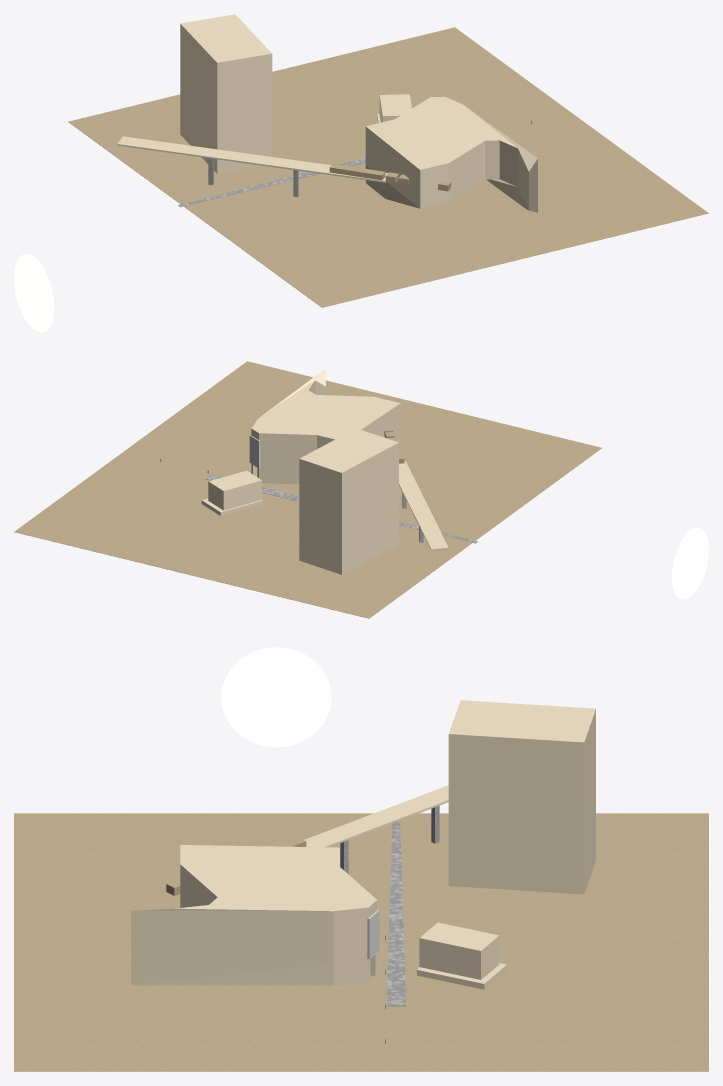
3 renders of one model, top to bottom at view 1: azimuth 30°, elevation 25°; view 2: azimuth 150°, elevation 25°; view 3: azimuth 270°, elevation 25°, orthographic. The views are drawn at different scales.
Parts seen in each view (by area): view 1: ground, Building.002, Cube, Railway.001, Circle, 立方體, Cube.001, the way; view 2: ground, Cube, Building.002, Circle, Cube.001, Railway.001, the way; view 3: ground, Building.002, Cube, Circle, Cube.001, the way, Railway.001.
Part boxes in pixels (bbox=[...]): ground: bbox=[68, 27, 708, 307]; Building.002: bbox=[365, 96, 537, 212]; Cube: bbox=[180, 14, 272, 173]; Railway.001: bbox=[117, 136, 387, 182]; Circle: bbox=[14, 253, 54, 332]; 立方體: bbox=[329, 164, 451, 191]; Cube.001: bbox=[377, 94, 411, 123]; the way: bbox=[178, 157, 365, 207]; ground: bbox=[14, 361, 601, 618]; Cube: bbox=[299, 428, 398, 574]; Building.002: bbox=[251, 368, 400, 484]; Circle: bbox=[672, 527, 708, 599]; Cube.001: bbox=[201, 470, 262, 515]; Railway.001: bbox=[399, 459, 448, 552]; the way: bbox=[205, 474, 477, 543]; ground: bbox=[14, 813, 708, 1071]; Building.002: bbox=[131, 845, 377, 985]; Cube: bbox=[448, 700, 595, 894]; Circle: bbox=[221, 647, 331, 747]; Cube.001: bbox=[417, 922, 506, 989]; the way: bbox=[386, 820, 405, 1006]; Railway.001: bbox=[304, 785, 448, 847].
Bounding box in the file's own units: 143 × 37.02 × 109.
4 materials, 2 textured.
